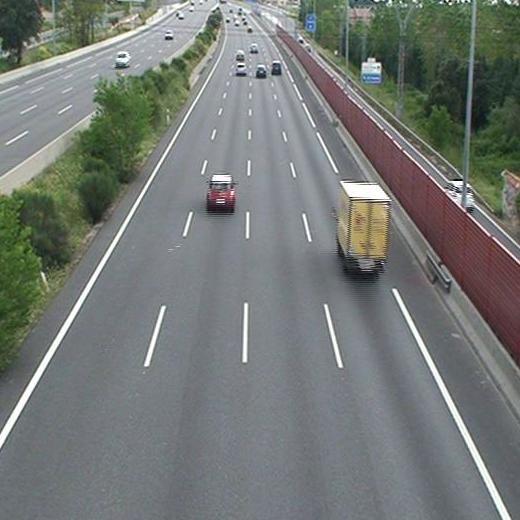car: (207, 175, 235, 205), (235, 63, 247, 75), (271, 61, 282, 73), (255, 65, 266, 77), (249, 43, 258, 54), (235, 50, 245, 59)
small-truck: (337, 182, 387, 272)
